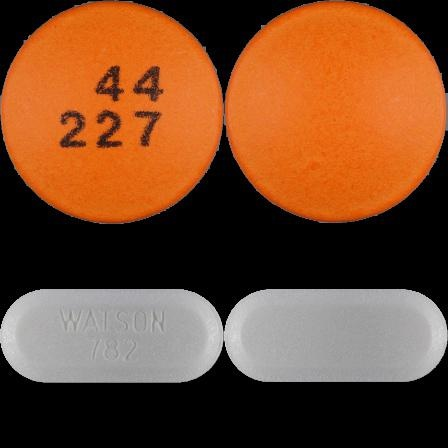68788-0678: (0, 0, 224, 224)
